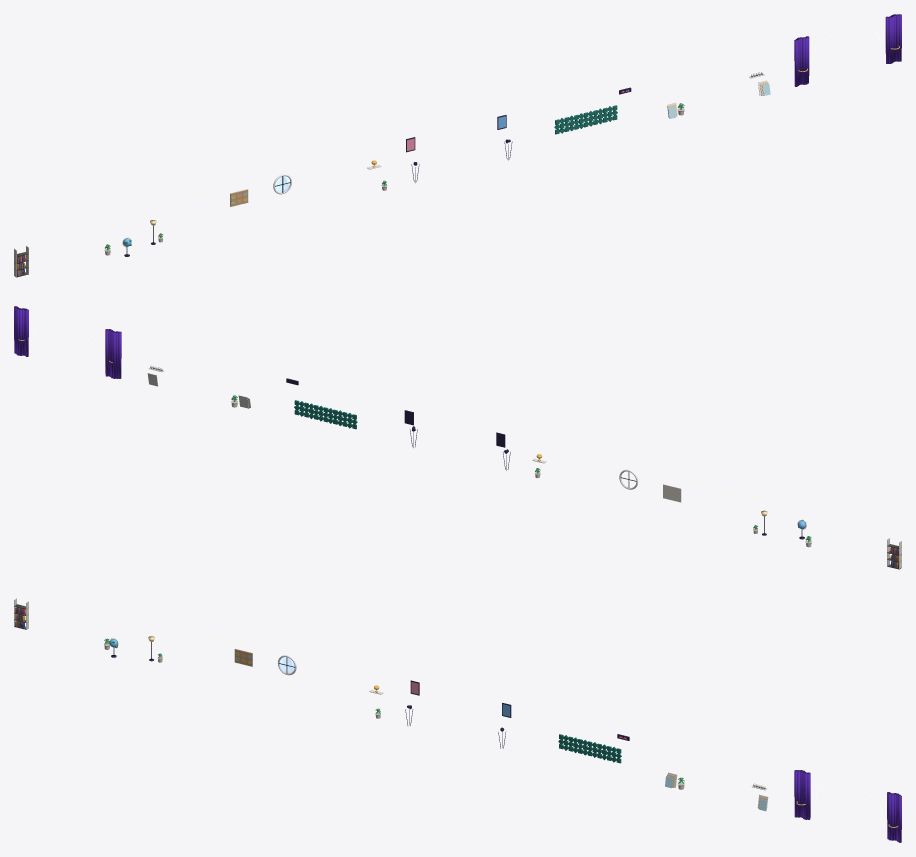
Rendered from set.glb.
The picture shows the model from 3 angles, top to bottom: view 1: azimuth 30°, elevation 25°; view 2: azimuth 150°, elevation 25°; view 3: azimuth 330°, elevation 25°; orthographic projection.
Bounding box in the file's own units: 88.69 × 4.44 × 2.
